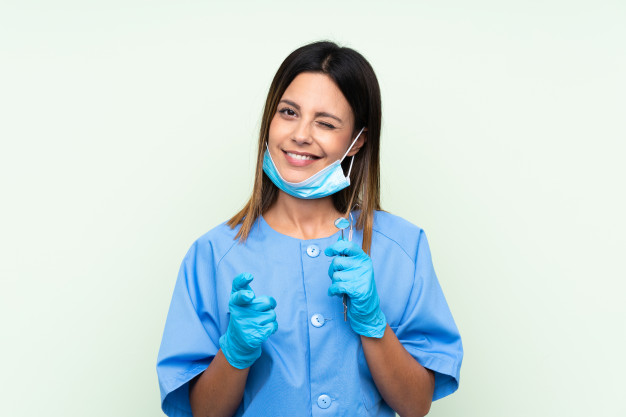mask_weared_incorrect: (261, 81, 363, 206)
